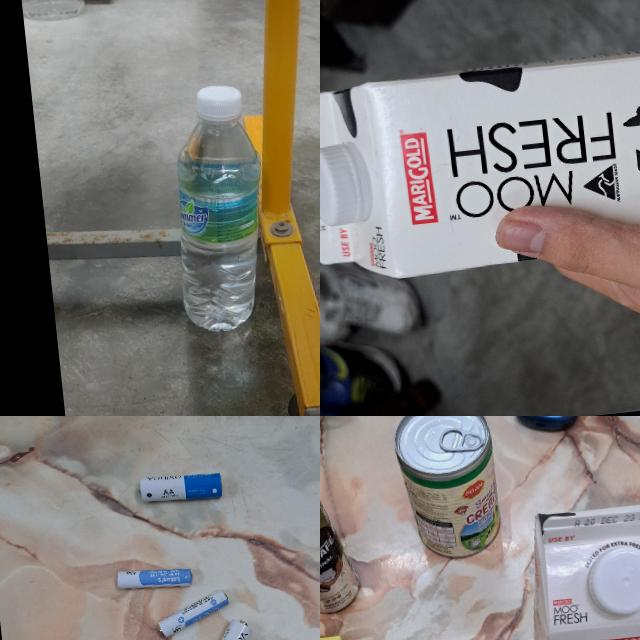aba de lata: (436, 424, 484, 454)
bateria: (153, 587, 232, 640), (135, 466, 224, 507), (116, 562, 194, 594), (184, 617, 258, 640)
caixinha: (320, 24, 640, 290), (513, 495, 640, 640)
garrafa plástica: (161, 111, 278, 338)
lata: (390, 416, 504, 563), (320, 447, 362, 622)
tampa plástica: (320, 138, 372, 228), (585, 544, 640, 619), (192, 82, 245, 128)
